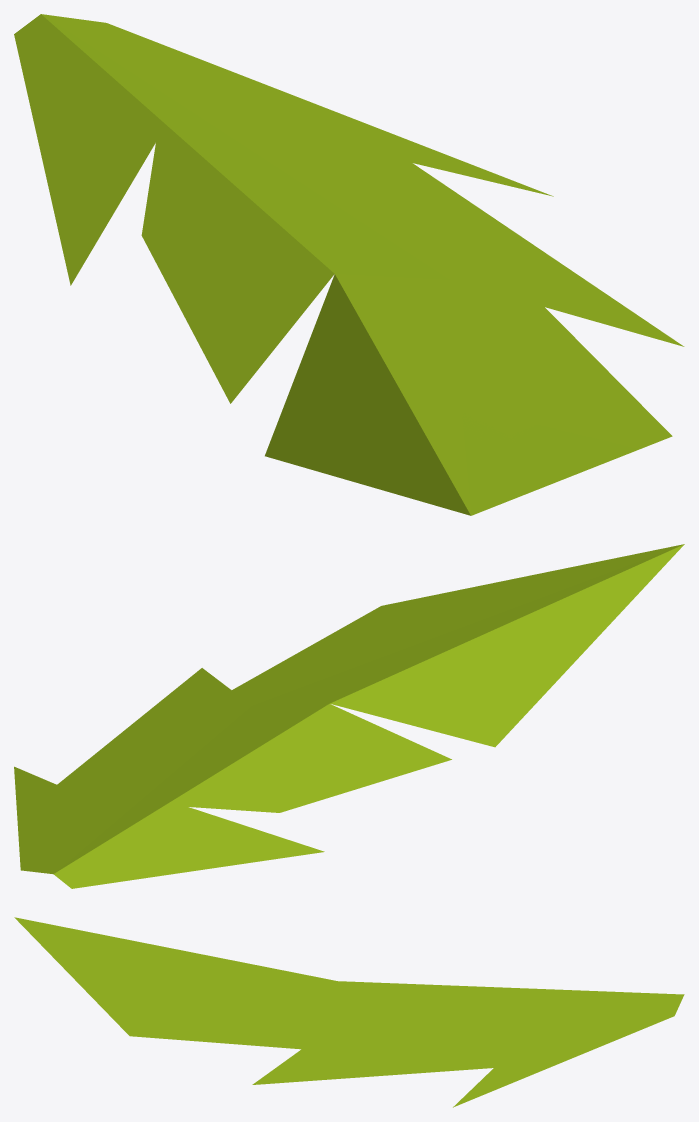
The model's file is Vegetation_Modular_Tree_Foliage_Fir_Leaf_02.fbx.
3 renders of one model, top to bottom at view 1: azimuth 30°, elevation 25°; view 2: azimuth 150°, elevation 25°; view 3: azimuth 270°, elevation 25°, orthographic. The views are drawn at different scales.
Visible parts, largest first — view 1: Vegetation_Modular_Tree_Foliage_Fir_Leaf_02; view 2: Vegetation_Modular_Tree_Foliage_Fir_Leaf_02; view 3: Vegetation_Modular_Tree_Foliage_Fir_Leaf_02.
Part boxes in pixels (x1,y1,x2,y2): Vegetation_Modular_Tree_Foliage_Fir_Leaf_02: [14, 14, 684, 515]; Vegetation_Modular_Tree_Foliage_Fir_Leaf_02: [14, 544, 684, 888]; Vegetation_Modular_Tree_Foliage_Fir_Leaf_02: [14, 917, 684, 1107].
Bounding box in the file's own units: 880 × 202 × 1954.
